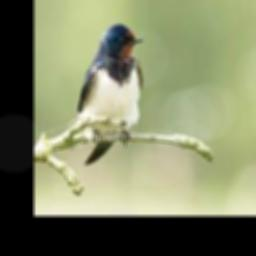Swallow: (79, 24, 144, 165)
